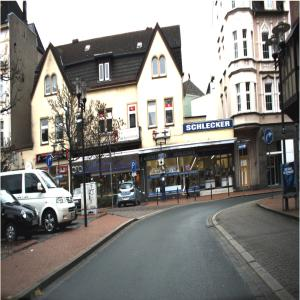go right: (265, 129, 274, 145), (47, 155, 54, 168)
